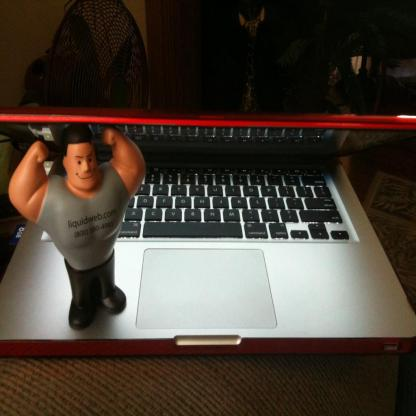board: (0, 111, 416, 360)
